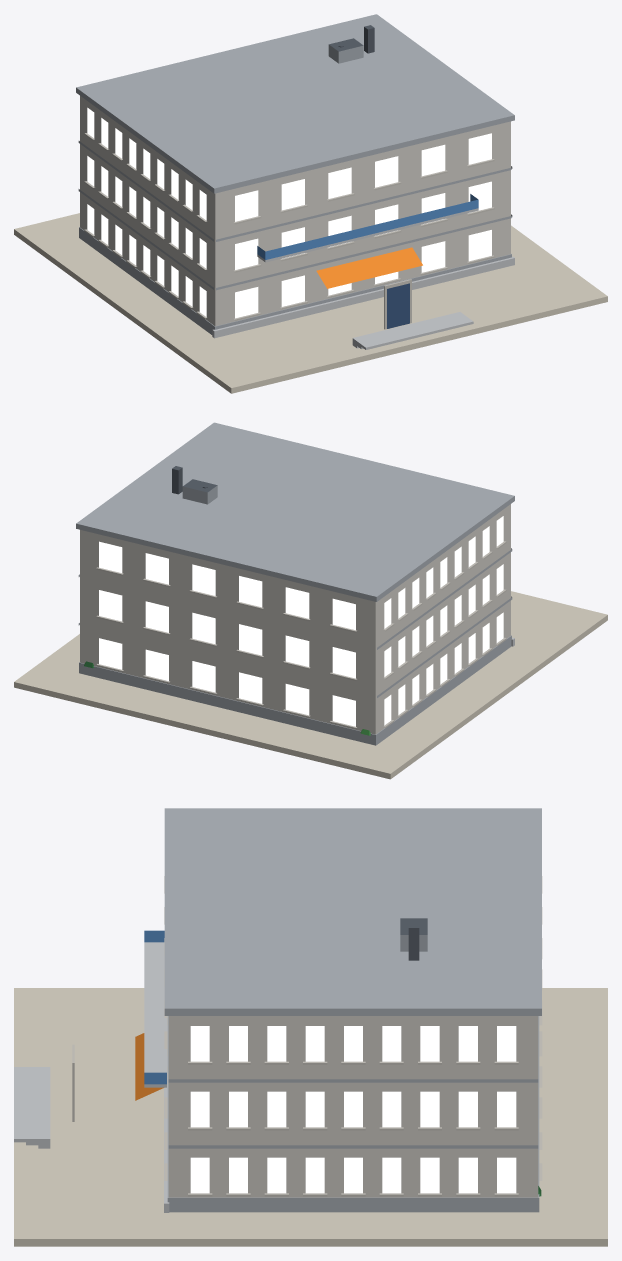
The picture shows the model from 3 angles, top to bottom: view 1: azimuth 30°, elevation 25°; view 2: azimuth 150°, elevation 25°; view 3: azimuth 270°, elevation 25°; orthographic projection. The views are drawn at different scales.
Visible parts, largest first — view 1: b04_x2; view 2: b04_x2; view 3: b04_x2.
Boxes of the visible parts, box(x1,y1,x2,y2) form: b04_x2: box(14, 14, 607, 393); b04_x2: box(14, 422, 607, 779); b04_x2: box(14, 808, 607, 1246).
Bounding box in the file's own units: 1.96 × 0.945 × 1.96.
